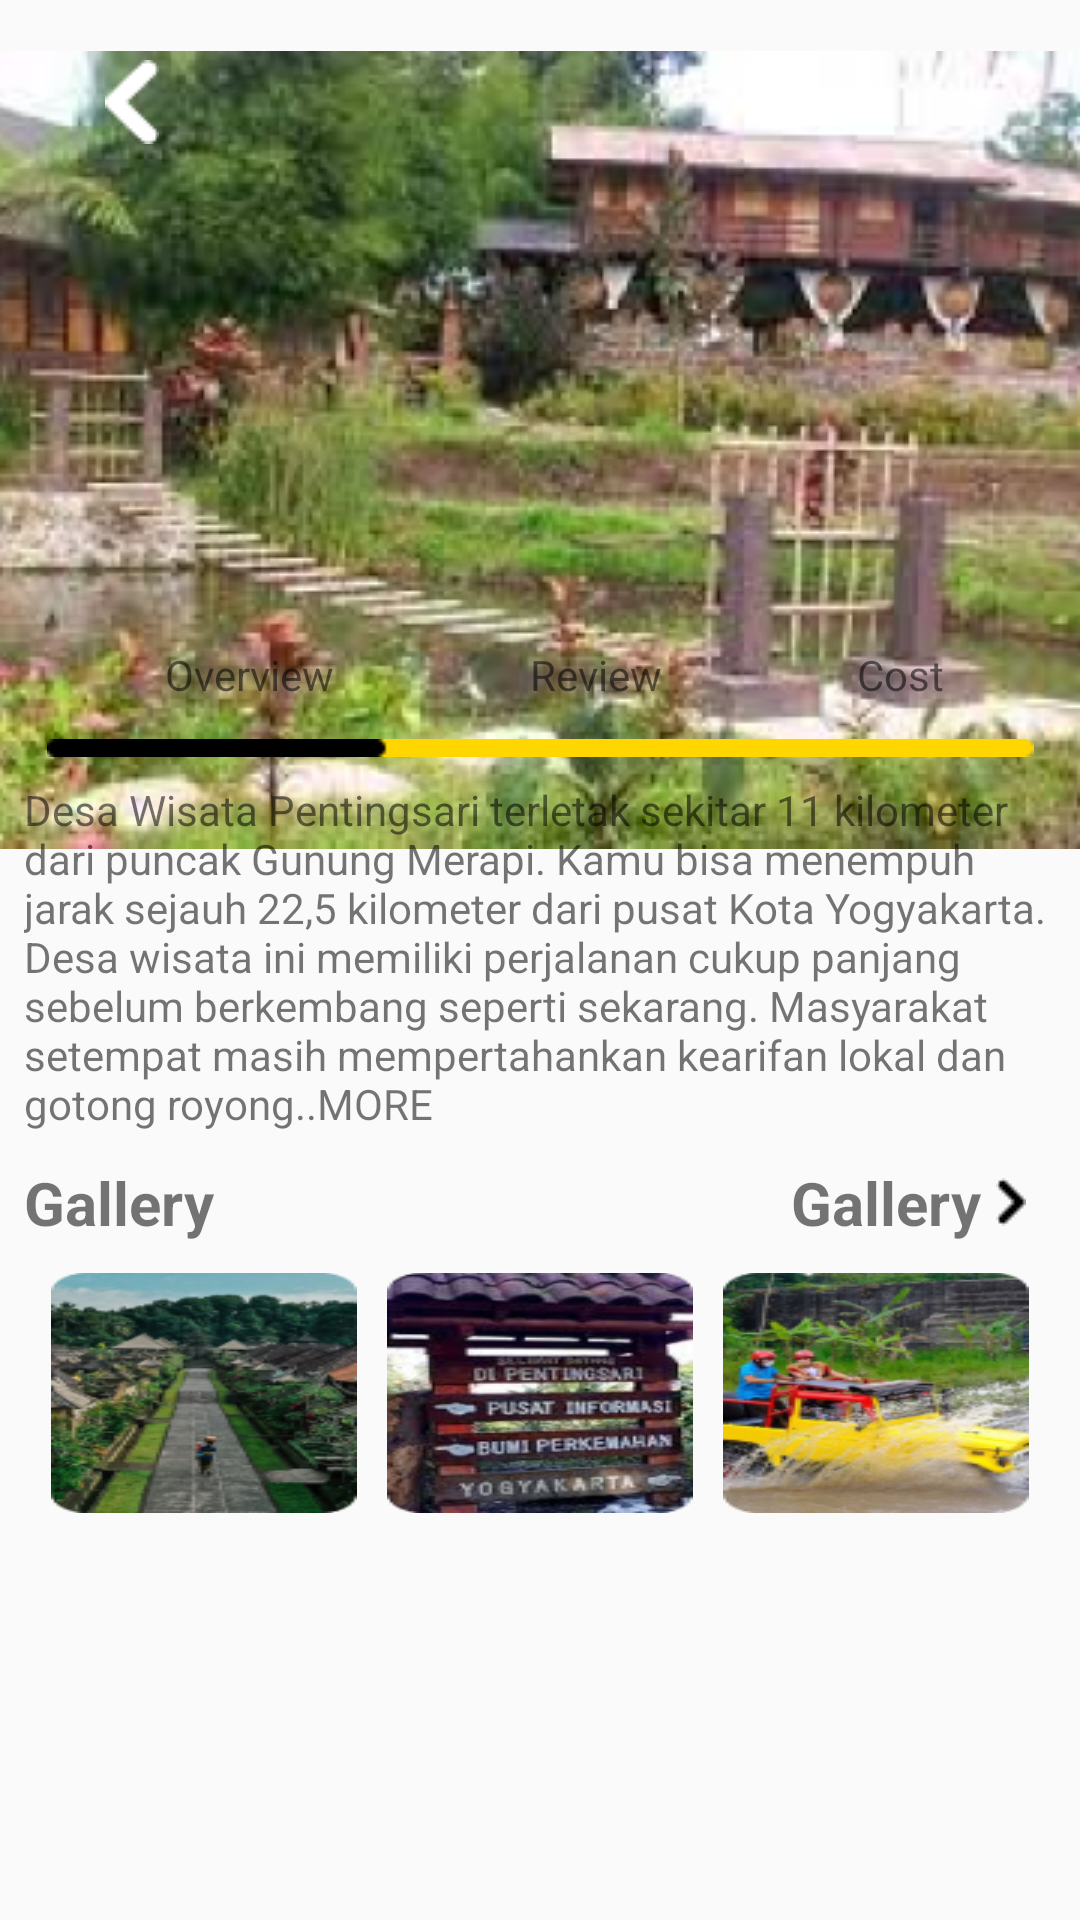

Where to tap for icons on this 1080*1920 app screen, as (x,y):
back: (132,102)
